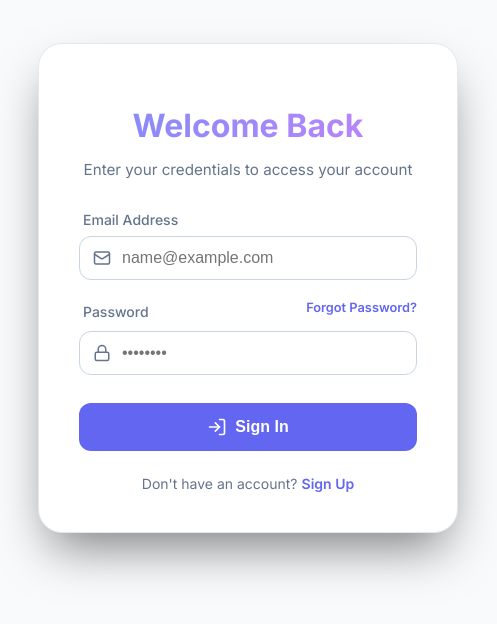
Auth Component › 15. should display error message on registration failure
This screenshot has width=497, height=624.
Click the text "Sign Up": {"x": 328, "y": 483} 302,475 -> 354,492
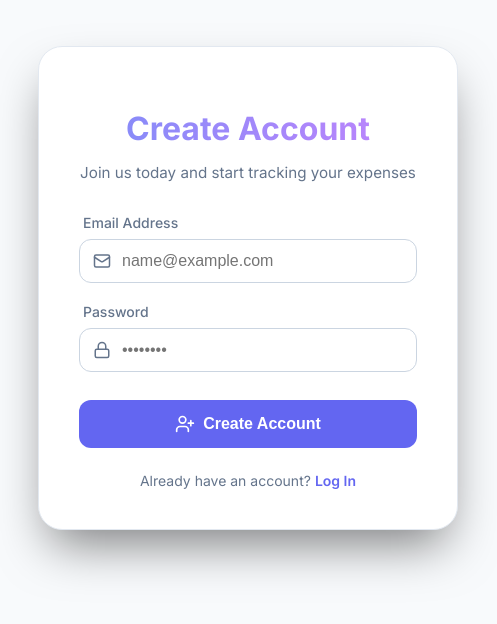
In the field with placeholder "name@example.com": {"x": 248, "y": 261} 79,239 -> 417,283, type "test@test.com"
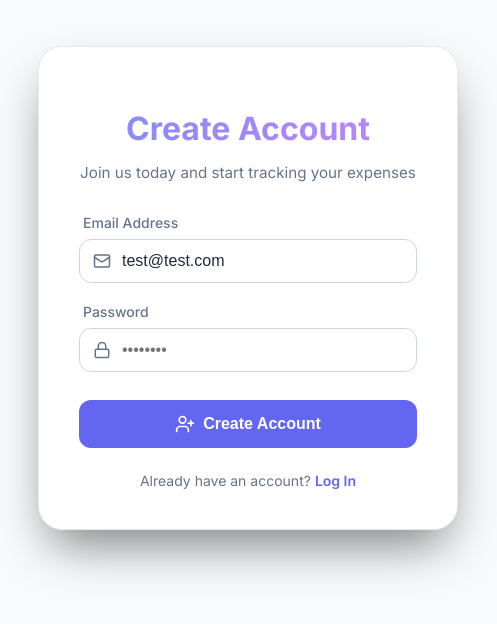
In the password field with placeholder "••••••••": {"x": 248, "y": 350} 79,328 -> 417,372, type "password123"
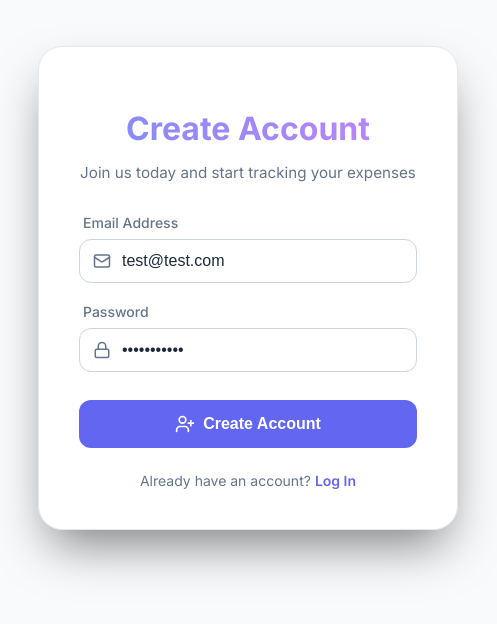
Click the button "Create Account": {"x": 248, "y": 424} 79,400 -> 417,448
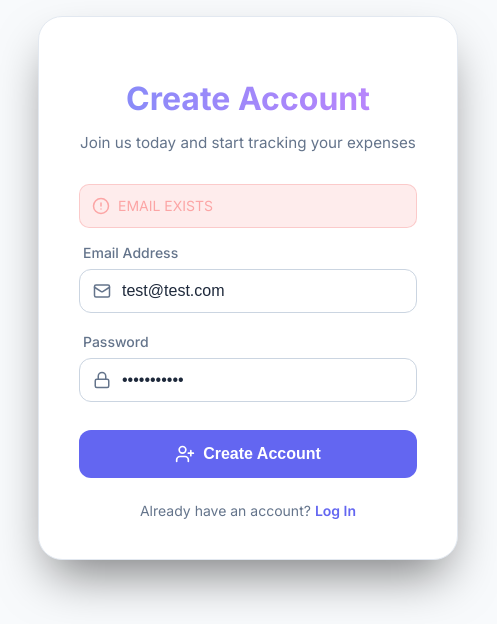
Expected: the text "EMAIL EXISTS" is shown, 118,197 -> 213,214
